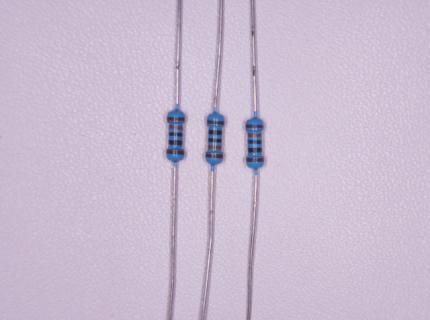Black band: (248, 140, 262, 145), (169, 140, 183, 145), (209, 130, 222, 135), (169, 132, 182, 137), (248, 148, 262, 152), (209, 139, 221, 143)
Brown band: (206, 154, 223, 159), (167, 117, 184, 121), (247, 158, 264, 162), (208, 121, 224, 125), (246, 125, 263, 128), (167, 151, 184, 154)
Orange band: (169, 124, 182, 130), (208, 145, 222, 149), (248, 133, 262, 137)
